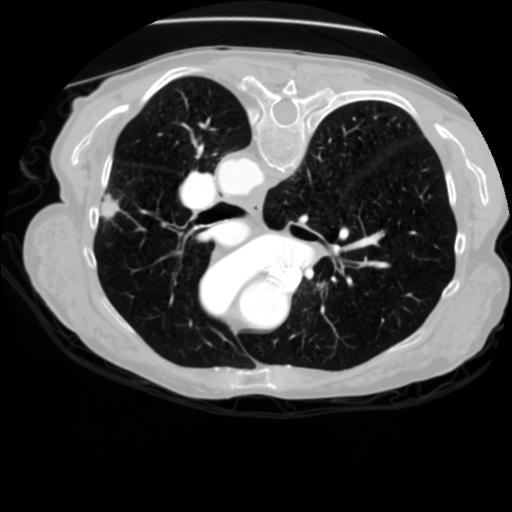nodule: (96, 195, 126, 225)
